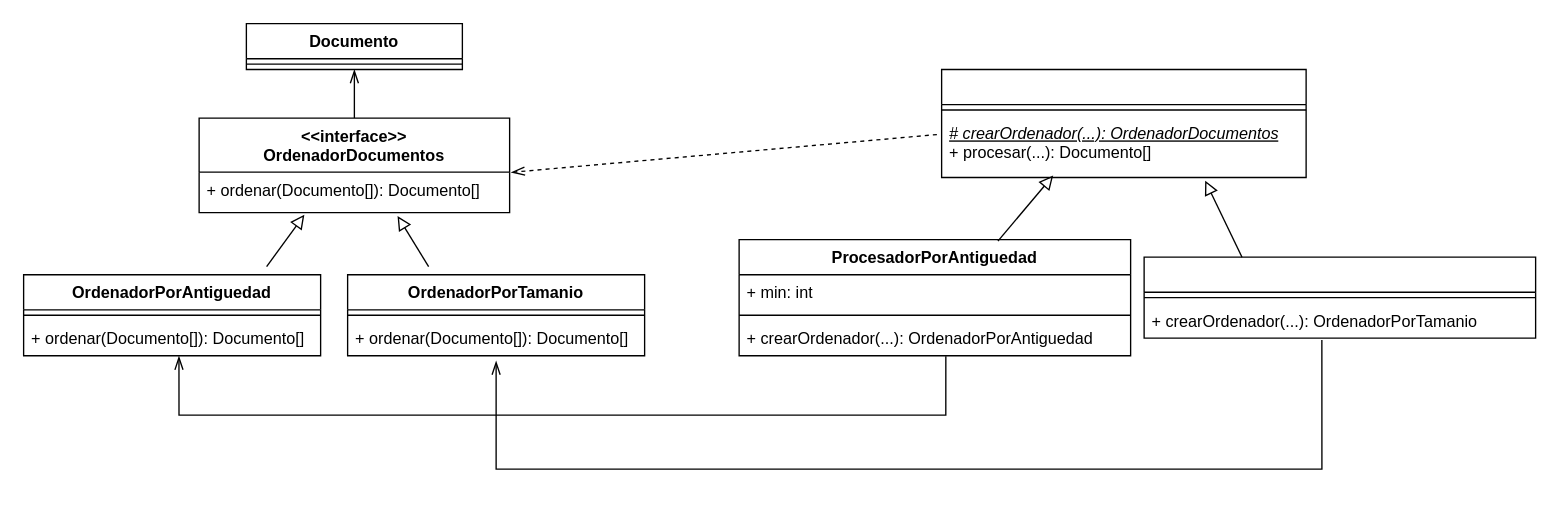
The diagram is 1559 pixels wide and 506 high, and some of its shapes have lost their labels. The shapes that lost their labels are listed below. From the top down, each one's box as (x1, y1, x2, y2) in pixels, then its label:
(940, 68, 1306, 178): ProcesadorDocumentos
(1143, 256, 1536, 338): ProcesadorPorTamanio
